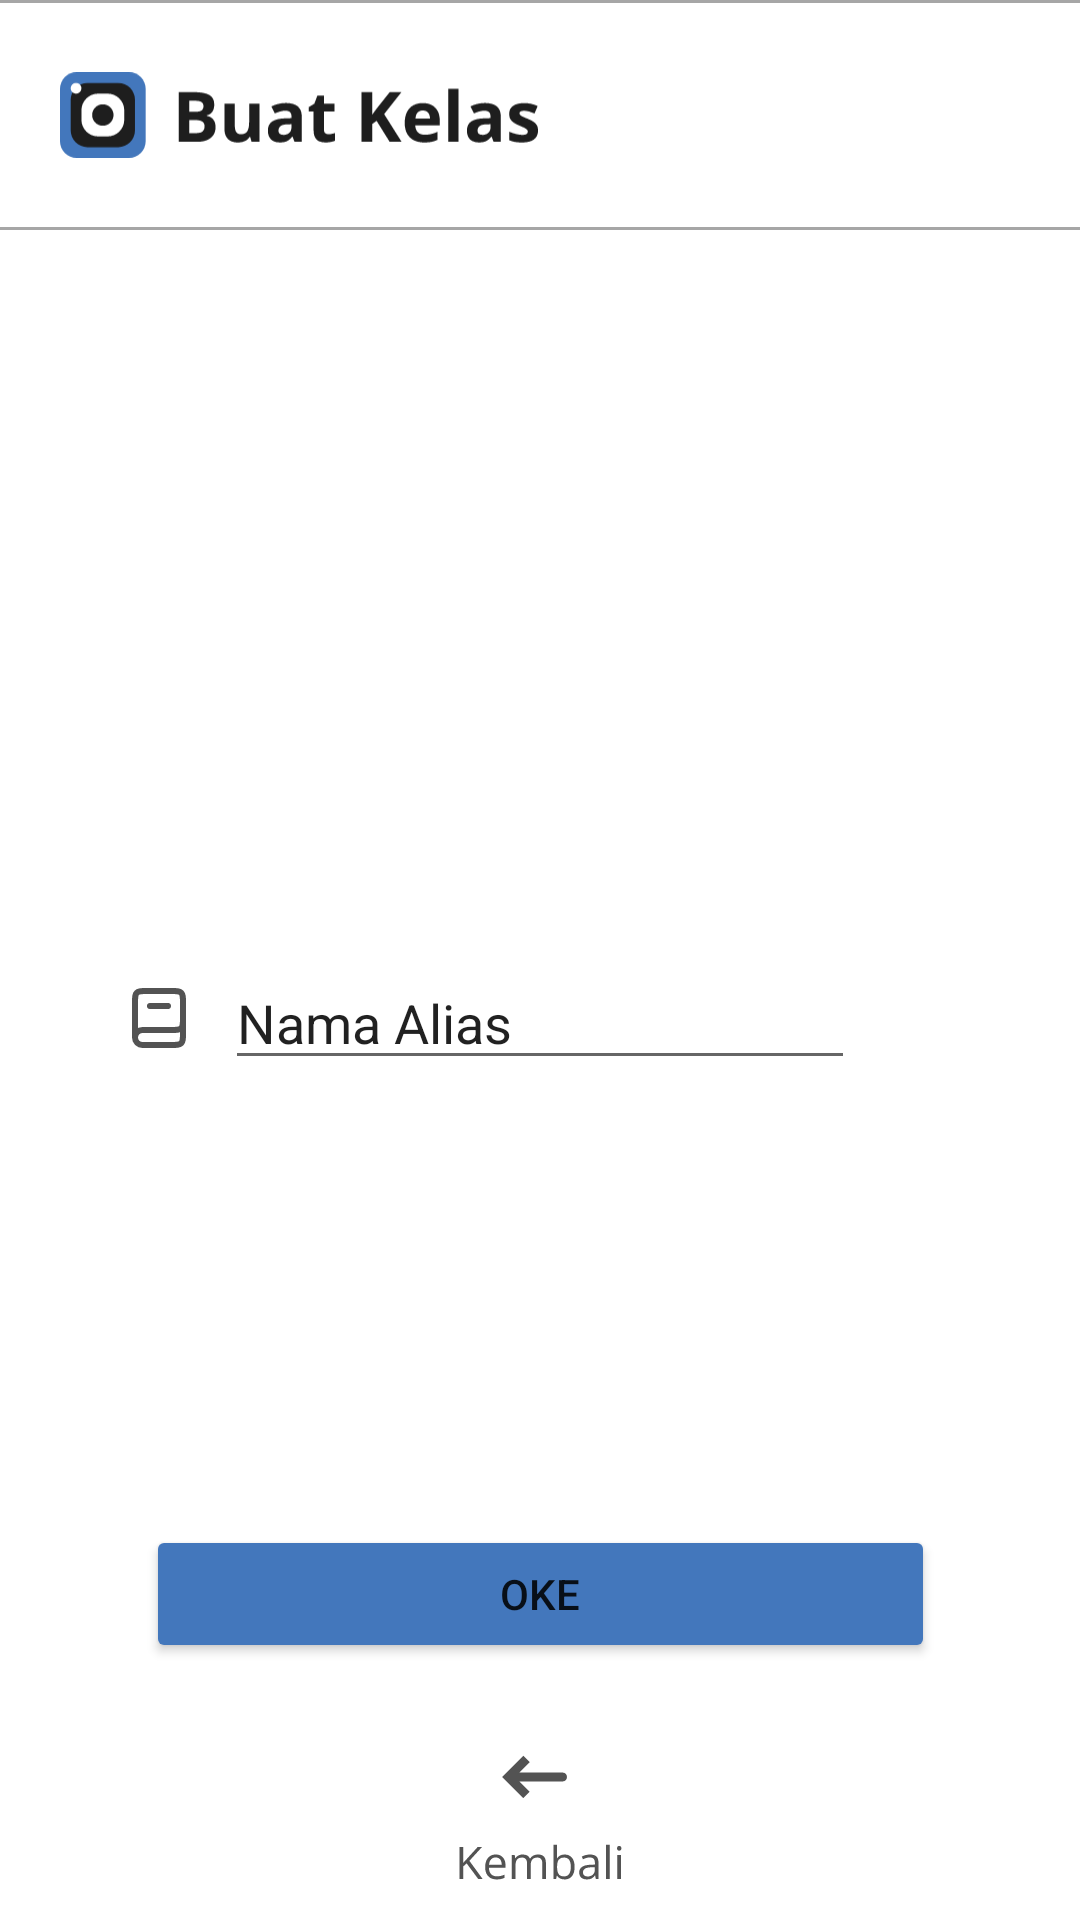

Screen size 1080px x 1920px. Icon name, then its center in pixels as (x=x, y=y):
book: (x=159, y=1018)
